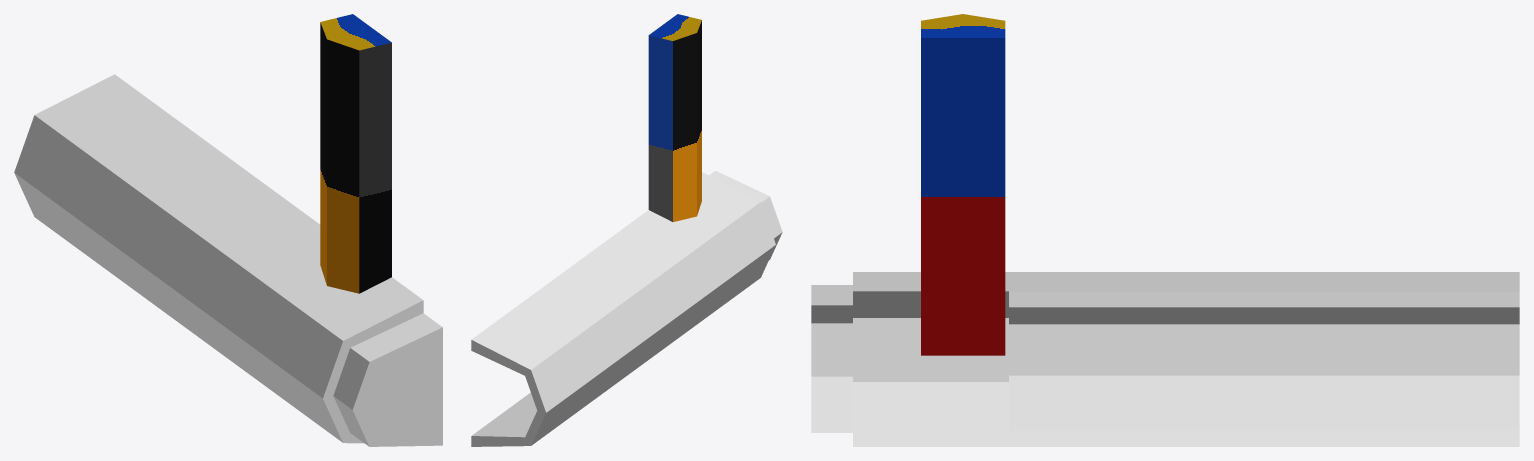
The model's file is beam blaster.glb.
3 views of the same model, side by side, from view 1: azimuth 30°, elevation 25°; view 2: azimuth 150°, elevation 25°; view 3: azimuth 270°, elevation 25° (orthographic). The views are drawn at different scales.
Parts seen in each view (by area): view 1: Engine.002; view 2: Engine.002; view 3: Engine.002.
Boxes of the visible parts, bbox=[...] form: Engine.002: bbox=[14, 14, 442, 446]; Engine.002: bbox=[471, 14, 782, 446]; Engine.002: bbox=[811, 14, 1519, 446].
Bounding box in the file's own units: 0.2505 × 0.9013 × 1.41.
Materials: 1 (1 with a texture image).
